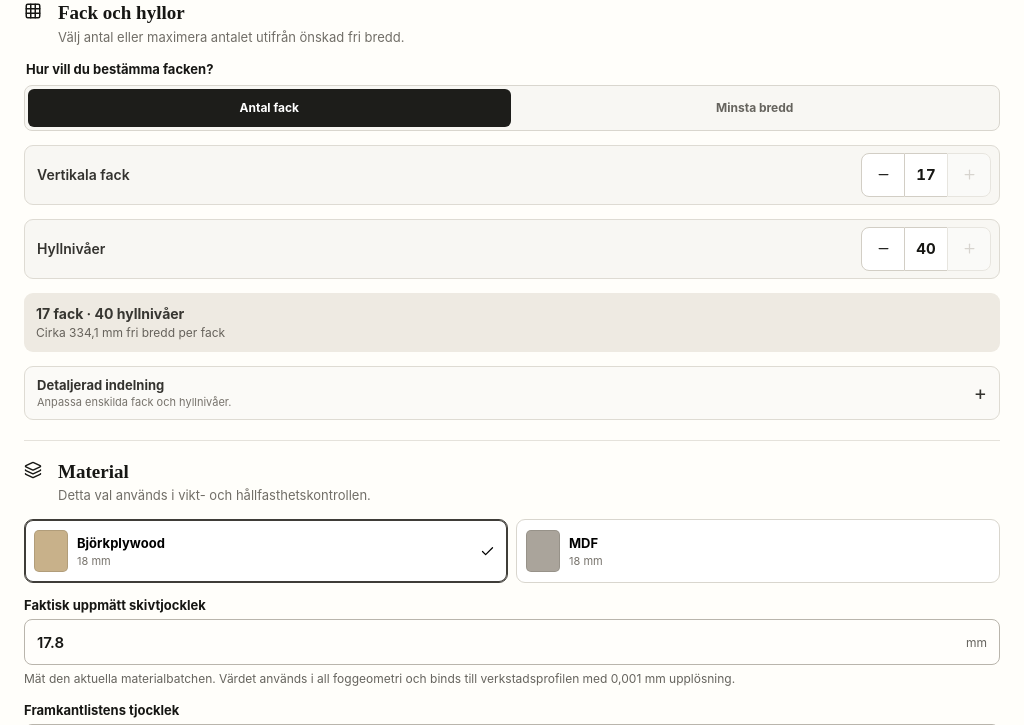
Scenario: StudioInspector › does not materialize infeasible custom ratios at the full bay and shelf envelope
(page scrolled)
What coordinates should you click on to do the following:
click the text "Detaljerad indelning"
I would click on:
 (101, 384)
Its box is [37,376,164,392].
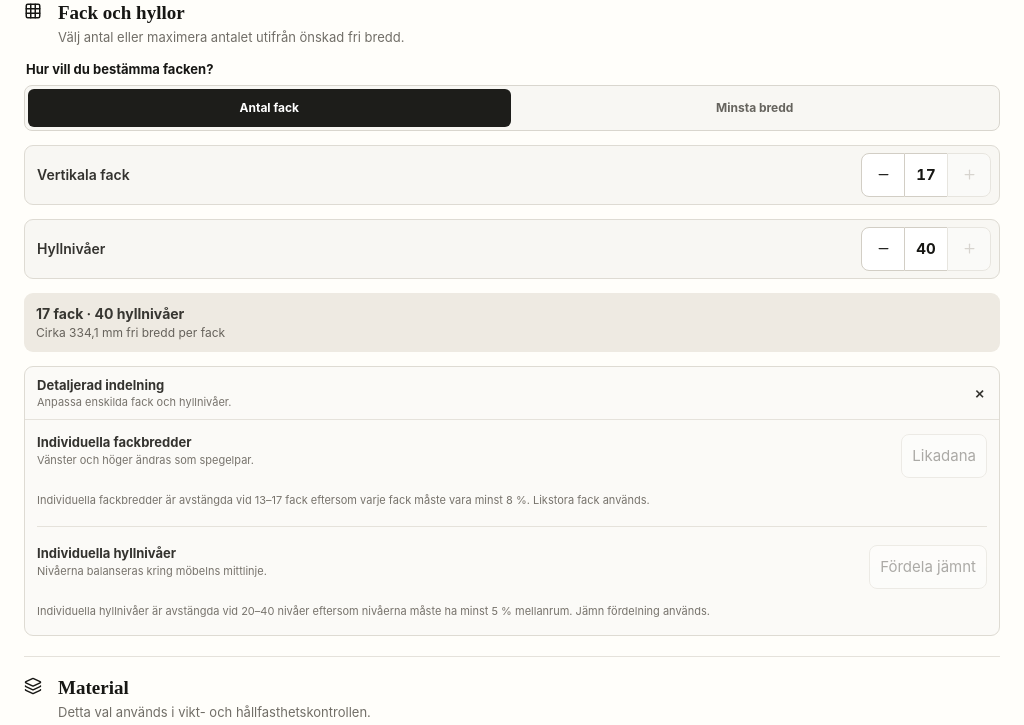
Check: the text "Individuella fackbredder är avstängda vid 13–17 fack" is shown, box [37,492,650,506]
Check: the text "Individuella hyllnivåer är avstängda vid 20–40 nivåer" is shown, box [37,604,710,618]
Check: the button "Likadana" is disabled, box [901,434,987,478]
